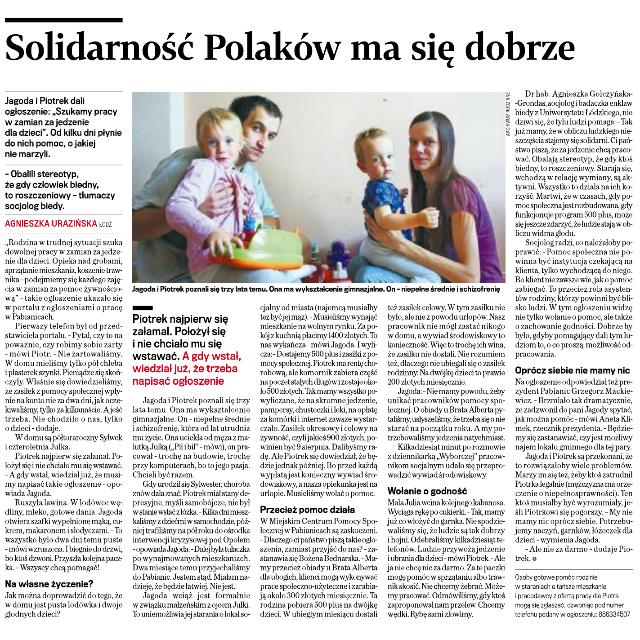author: (4, 217, 98, 229)
body: (515, 87, 639, 569), (3, 234, 127, 622), (384, 299, 508, 621), (258, 300, 380, 622), (131, 393, 253, 621), (130, 301, 242, 389)
caption: (132, 283, 508, 295)
image: (130, 89, 510, 283)
lead: (3, 92, 122, 212)
title: (3, 26, 581, 70)
